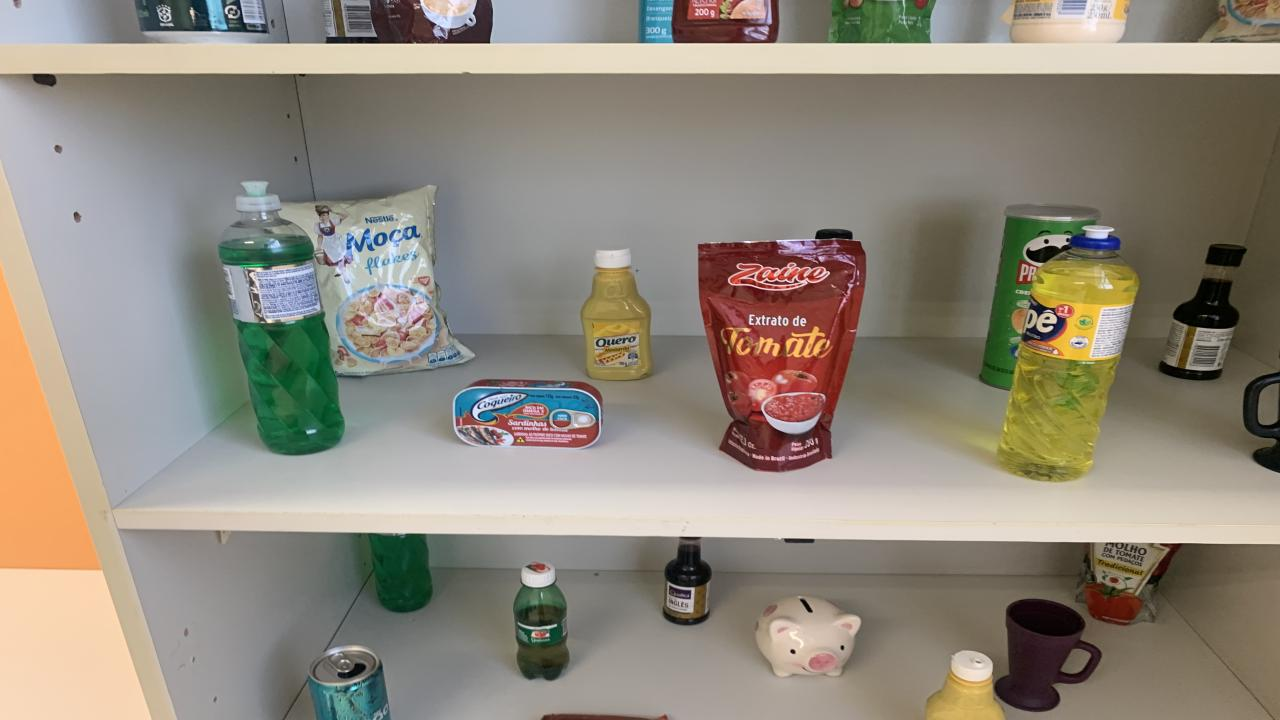Coffee-Pantry_Items: (370, 0, 492, 43)
Detergent-Cleanup_Items: (998, 225, 1140, 482), (220, 182, 345, 454), (370, 534, 432, 613)
English_Sauce-Pantry_Items: (1160, 244, 1248, 381), (662, 536, 712, 624), (322, 0, 378, 43)
Flakes-Snacks: (282, 186, 475, 375), (1200, 0, 1280, 43)
Guarana-Drinks: (512, 562, 570, 681)
Guarana_Can-Drinks: (135, 0, 270, 43)
Ketchup-Pantry_Items: (1075, 542, 1180, 624), (672, 0, 780, 43)
Mayonnaise-Pantry_Items: (1002, 0, 1130, 43)
Mustard-Pantry_Items: (580, 248, 652, 381), (925, 651, 1005, 720)
Pig_Safe-Miscellaneous: (755, 596, 860, 677)
Pringles-Snacks: (980, 204, 1100, 390), (828, 0, 935, 43)
Tea-Drinks: (308, 645, 390, 720), (638, 0, 672, 43)
Tomato_Sauce-Pantry_Items: (698, 238, 865, 471)
Tuna_Can-Pantry_Items: (452, 379, 602, 448)
